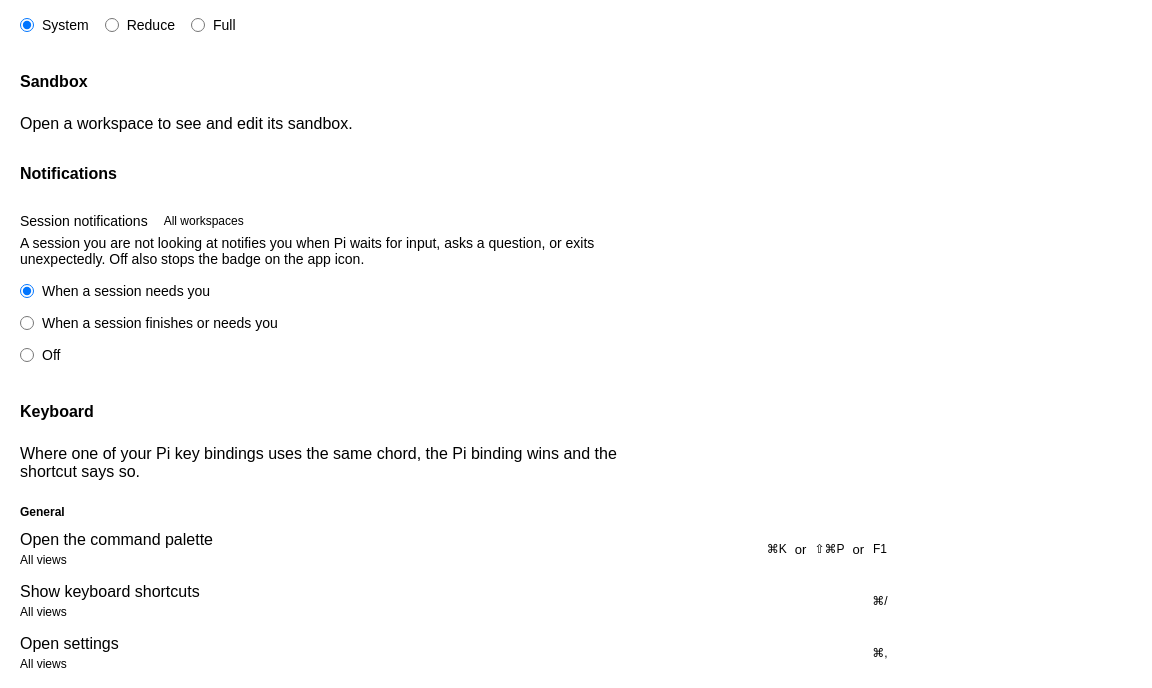
Test: keeps the saved notification policy and explains a failed save under it
(page scrolled)
Click the radio button labelled "Off".
click(27, 355)  # box [20,348,34,362]
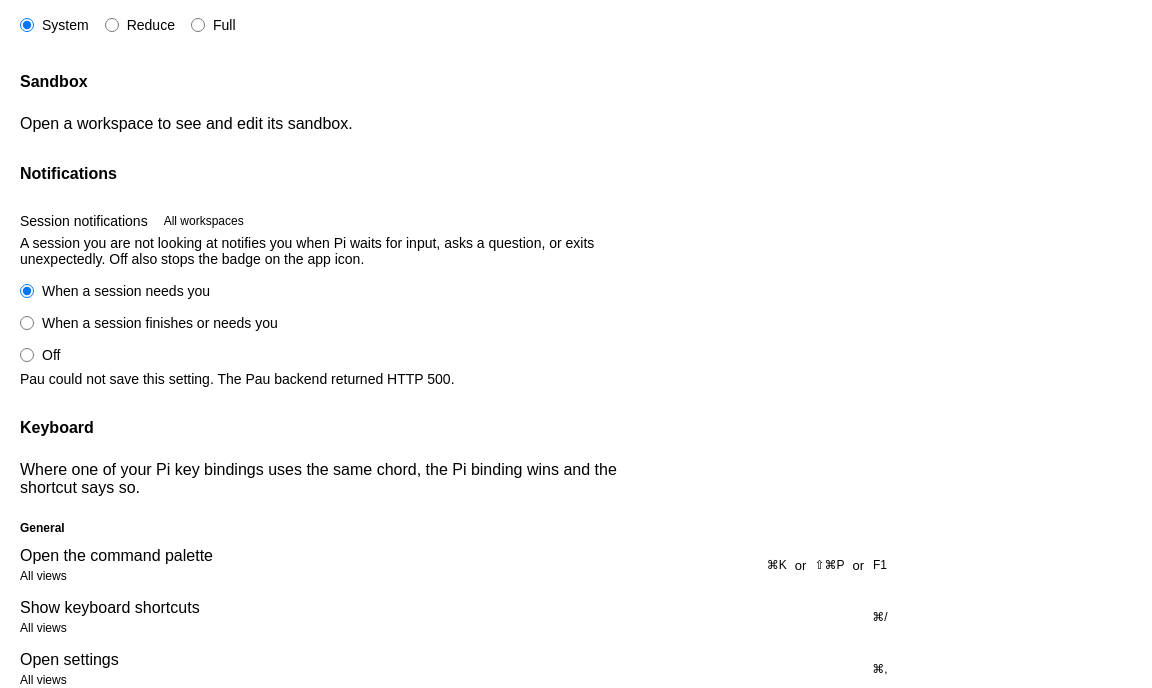
Check: the radio button labelled "When a session needs you" is checked, box [20,284,34,298]
Check: the message shows "The Pau backend returned HTTP 500.", box [20,371,454,387]
